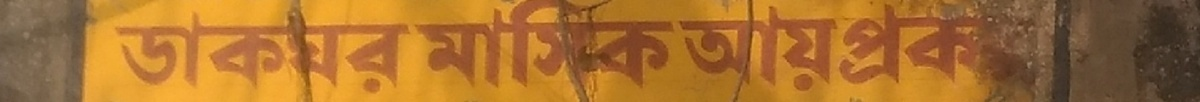text: (689, 1, 704, 96), (705, 1, 720, 96), (721, 1, 736, 96), (737, 1, 752, 96), (753, 1, 768, 96), (769, 1, 784, 96), (785, 1, 800, 96), (801, 1, 816, 96), (817, 1, 832, 96), (833, 1, 848, 96), (849, 1, 864, 96), (865, 1, 880, 96), (881, 1, 896, 96), (897, 1, 912, 96), (913, 1, 928, 96), (929, 1, 944, 96), (945, 1, 960, 96), (961, 1, 976, 96), (977, 1, 992, 96), (417, 1, 432, 92), (433, 1, 448, 92), (449, 1, 464, 92), (465, 1, 480, 92), (481, 1, 496, 92), (497, 1, 512, 92), (513, 1, 528, 92), (529, 1, 544, 92), (545, 1, 560, 92), (561, 1, 576, 92), (577, 1, 592, 92), (593, 1, 608, 92), (609, 1, 624, 92), (625, 1, 640, 92), (641, 1, 656, 92), (657, 1, 672, 92), (113, 10, 128, 95), (129, 10, 144, 95), (145, 10, 160, 95), (161, 10, 176, 95), (177, 10, 192, 95), (193, 10, 208, 95), (209, 10, 224, 95), (225, 10, 240, 95), (241, 10, 256, 95), (257, 10, 272, 95), (273, 10, 288, 95), (289, 10, 304, 95), (305, 10, 320, 95), (321, 10, 336, 95), (337, 10, 352, 95), (353, 10, 368, 95), (369, 10, 384, 95), (385, 10, 400, 95), (676, 1, 688, 96), (401, 10, 411, 95), (673, 1, 682, 92), (413, 1, 416, 92), (993, 1, 995, 96)
